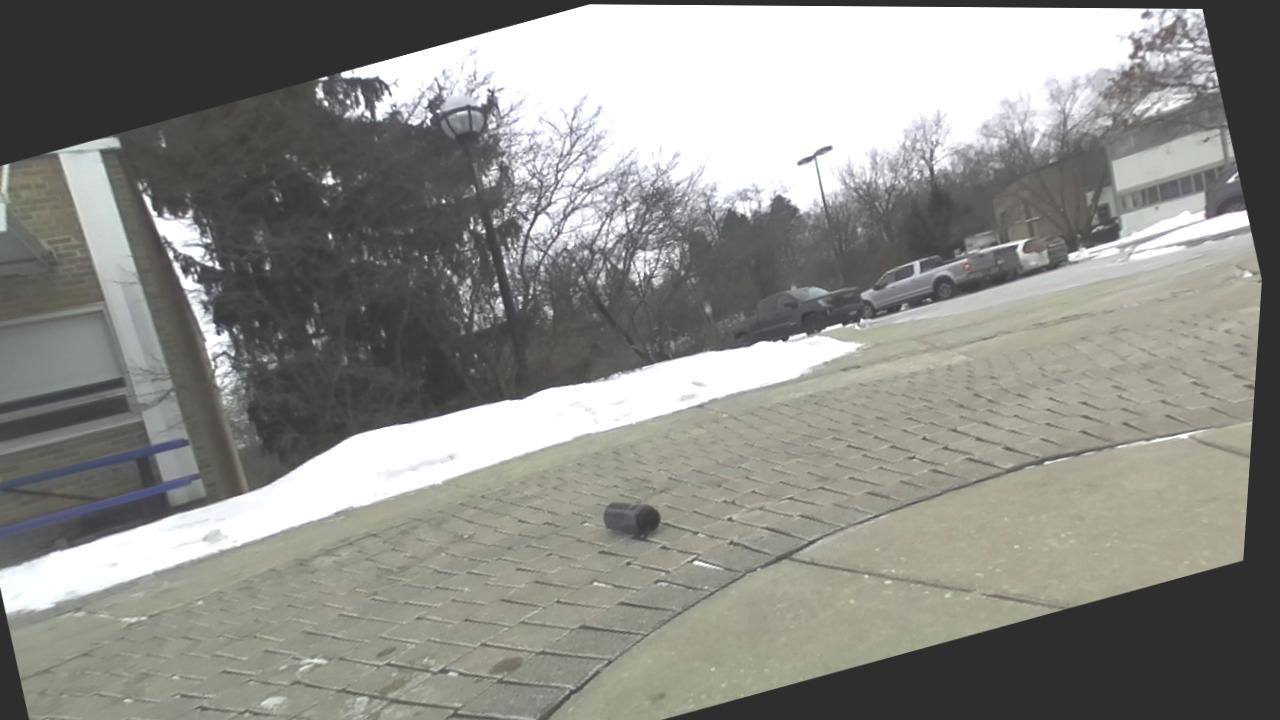bottle: (603, 503, 660, 539)
